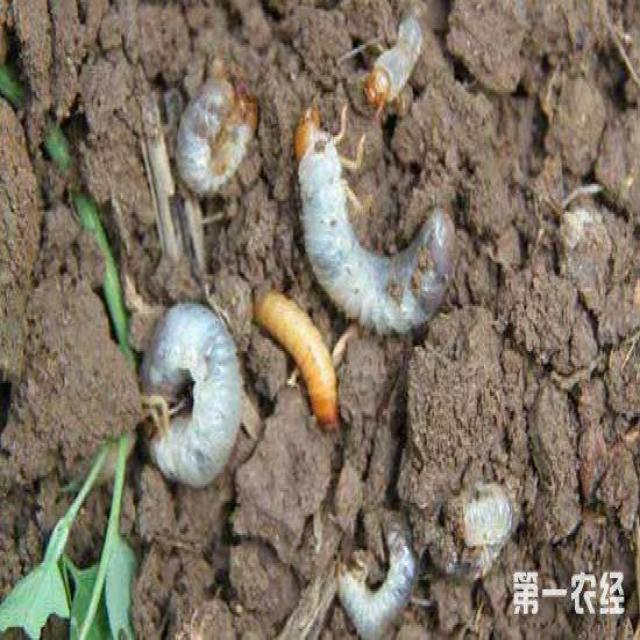Grub-Adult-: (284, 101, 460, 340), (116, 298, 250, 509), (164, 51, 260, 215), (424, 456, 519, 606), (330, 518, 422, 637), (348, 15, 458, 102)
